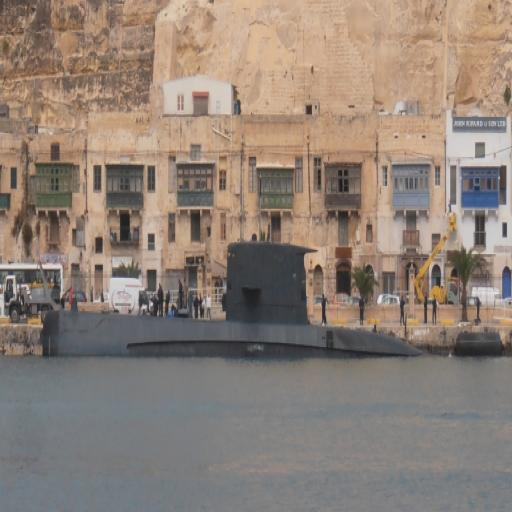submarine: (37, 238, 424, 361)
